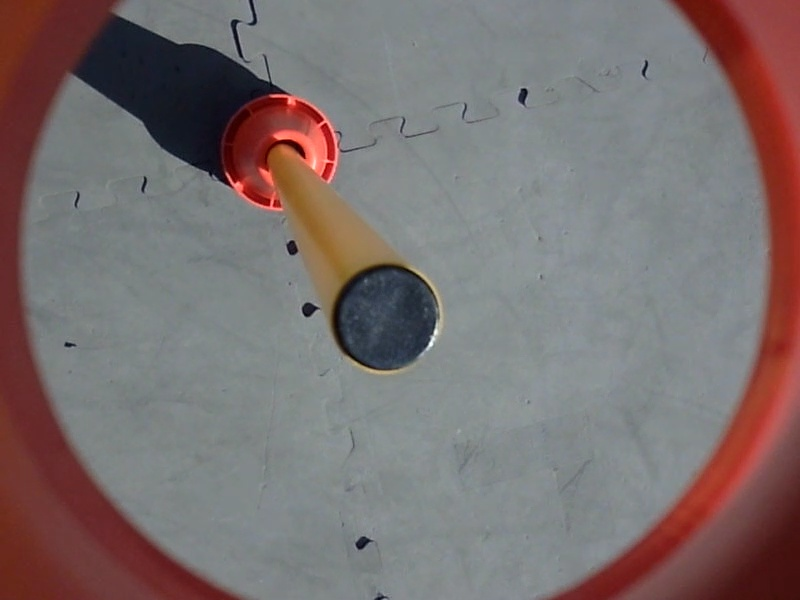tip: (331, 257, 448, 380)
